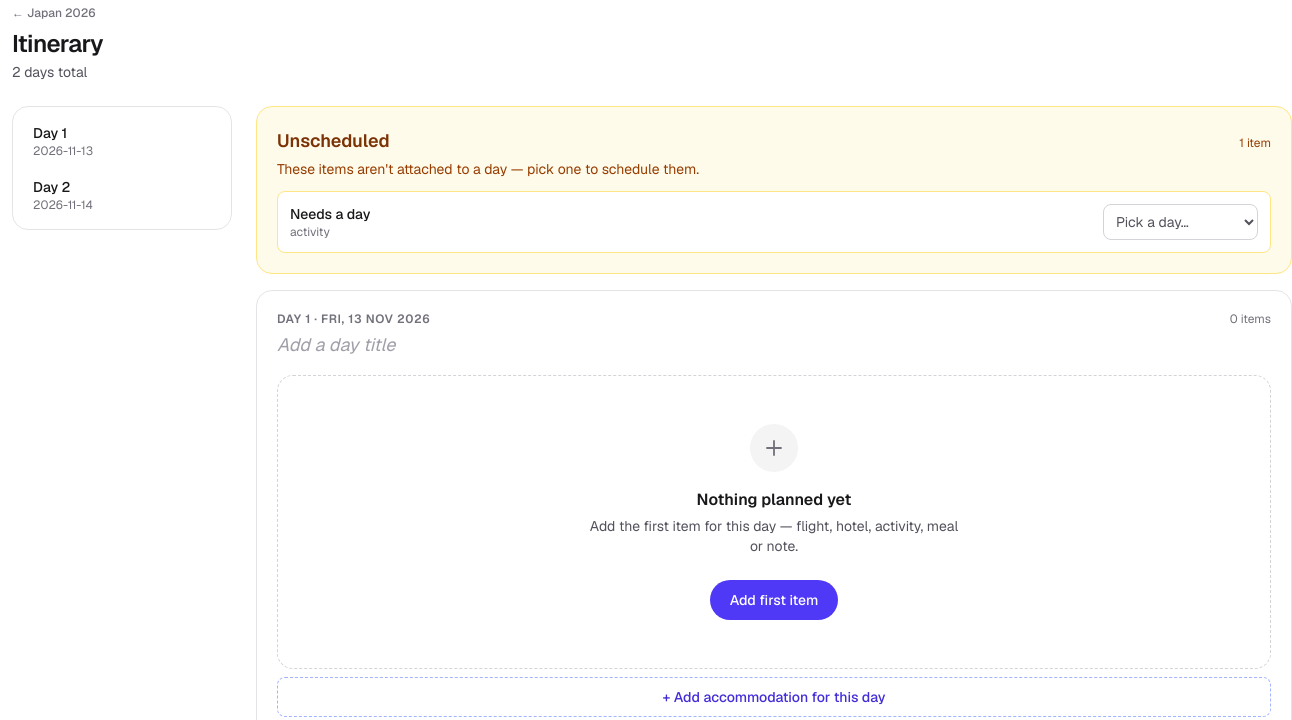
it: ItineraryView — Unscheduled bucket (B-030 Branch B) › reassigns an unscheduled item to a day via PATCH and removes it from the Unscheduled list
Select "Day 2 · 2026-11-14" in the dropdown named "Assign day for Needs a day" at coordinates (1180, 222), box [1103,204,1258,240]
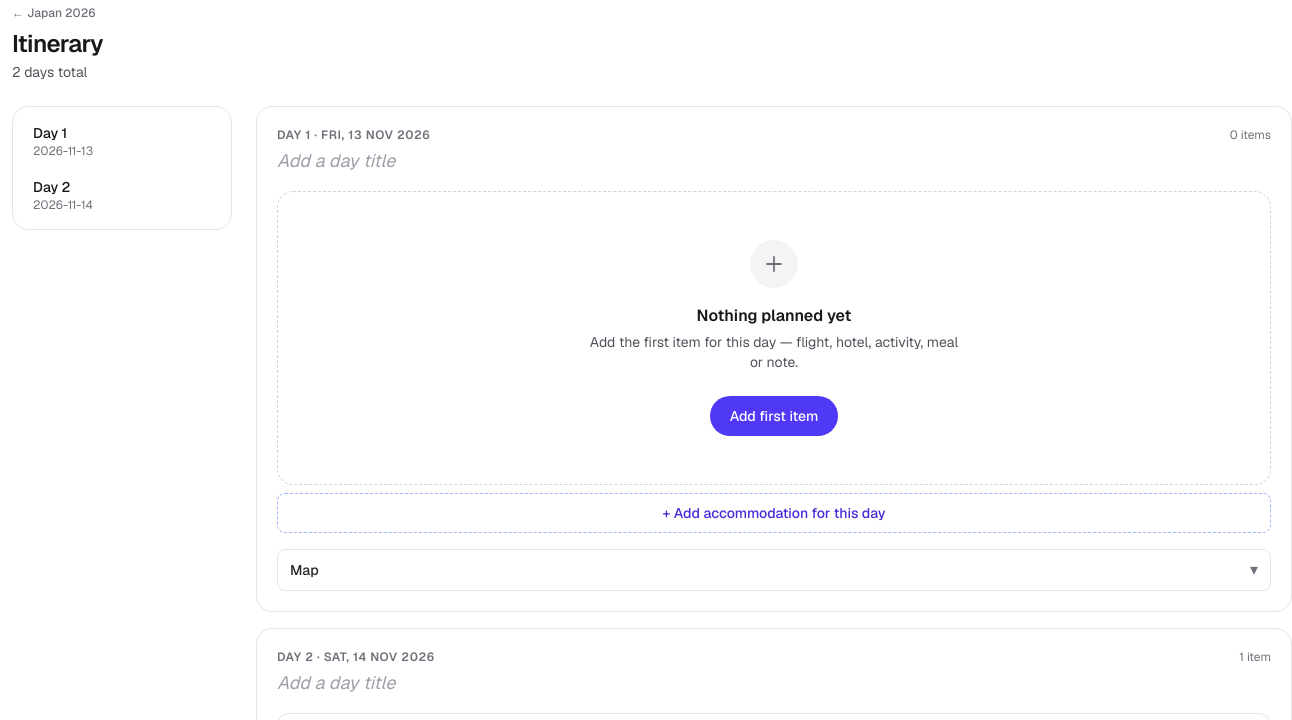
expect the element with test id "unscheduled-section" is gone: met
